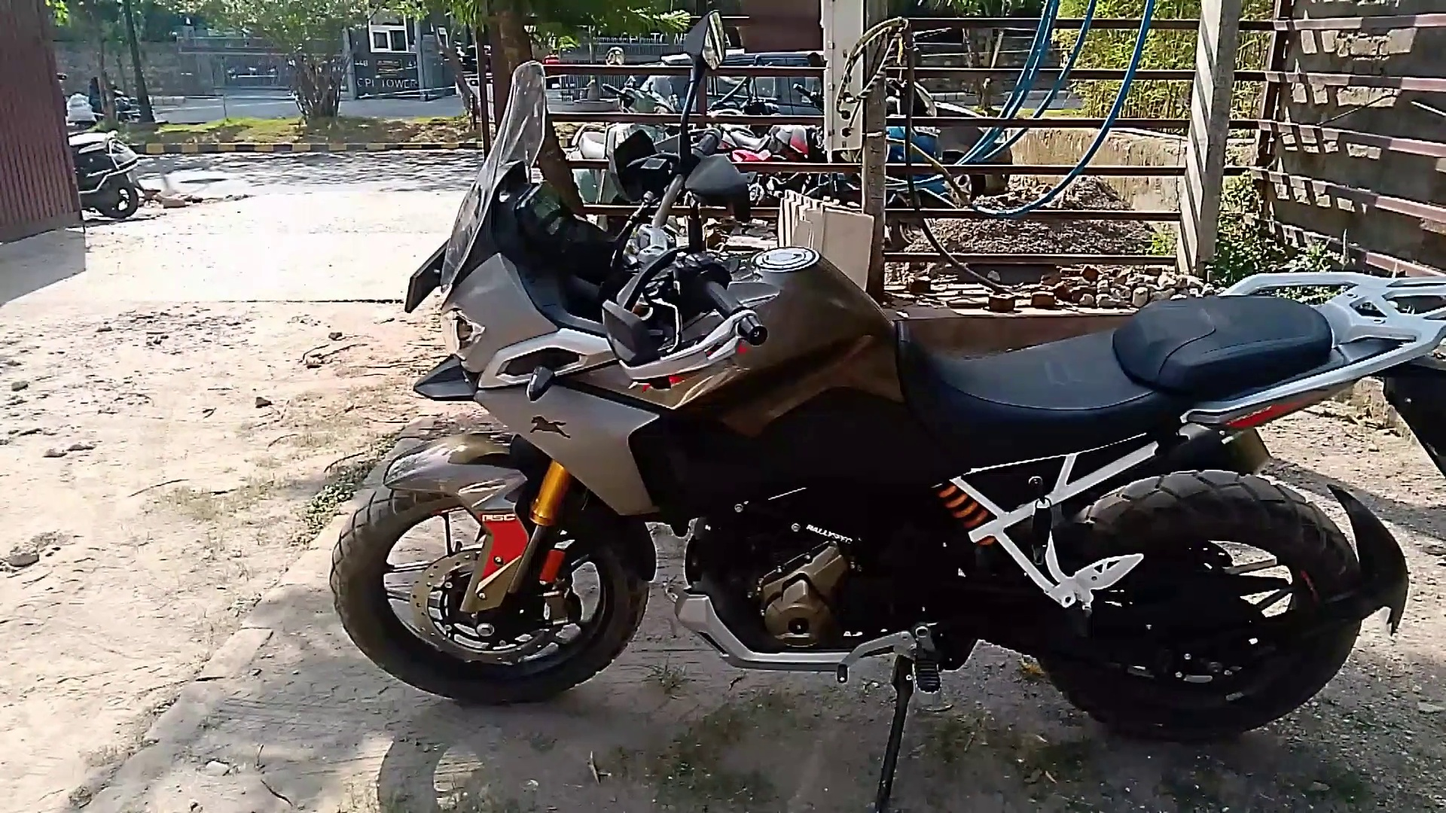engine: (723, 504, 864, 683)
